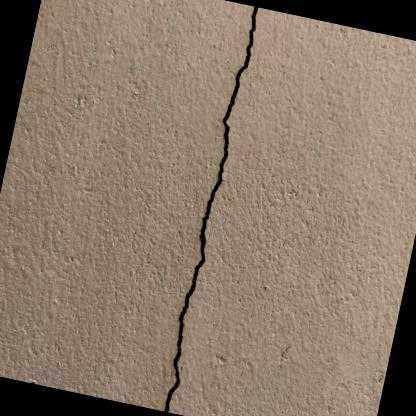crack: (161, 5, 259, 412)
